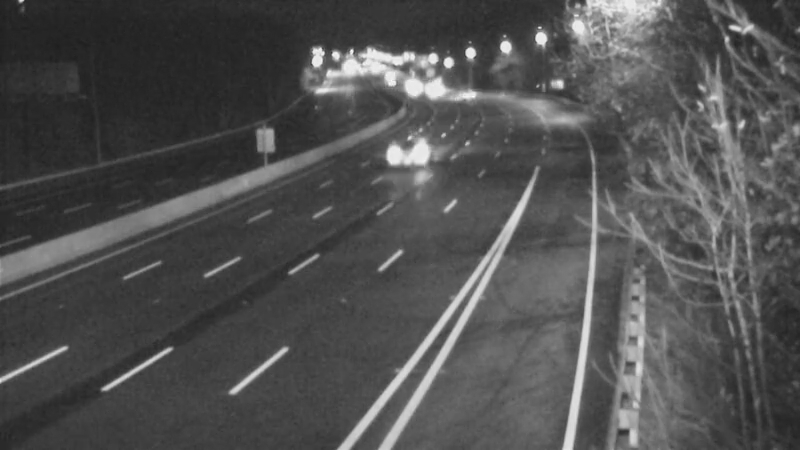vehicle: (369, 116, 449, 196), (407, 64, 457, 114), (436, 71, 486, 121)
